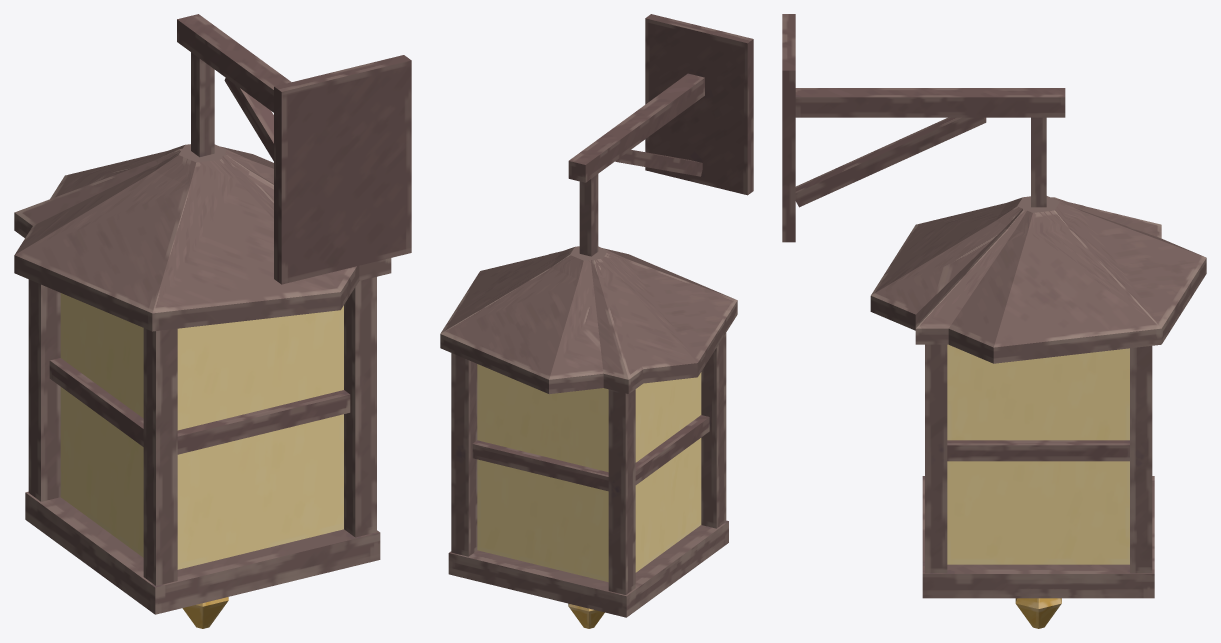
Rendered from lantern_wall.bundle.fbx.
The picture shows the model from 3 angles, left to right: view 1: azimuth 30°, elevation 25°; view 2: azimuth 150°, elevation 25°; view 3: azimuth 270°, elevation 25°; orthographic projection. The views are drawn at different scales.
Visible parts, largest first — view 1: lantern_wall, lantern_wall_low; view 2: lantern_wall, lantern_wall_low; view 3: lantern_wall, lantern_wall_low.
Boxes of the visible parts, left/top/right/bottom form: lantern_wall: left=14, top=14, right=411, bottom=628; lantern_wall_low: left=14, top=144, right=380, bottom=614; lantern_wall: left=451, top=14, right=753, bottom=628; lantern_wall_low: left=440, top=246, right=737, bottom=617; lantern_wall: left=782, top=14, right=1161, bottom=628; lantern_wall_low: left=870, top=196, right=1206, bottom=598.
Size of the model in its own units: 1.51 by 2.89 by 1.9.
Materials: 1 (1 with a texture image).
